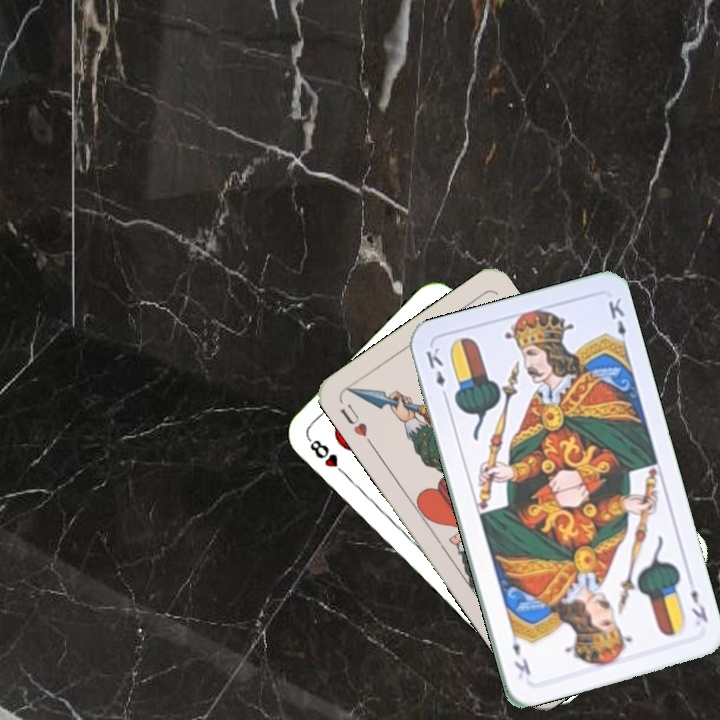EK: (422, 343, 451, 402), (687, 585, 711, 625)
H8: (303, 433, 350, 479)
HU: (335, 399, 376, 449)
